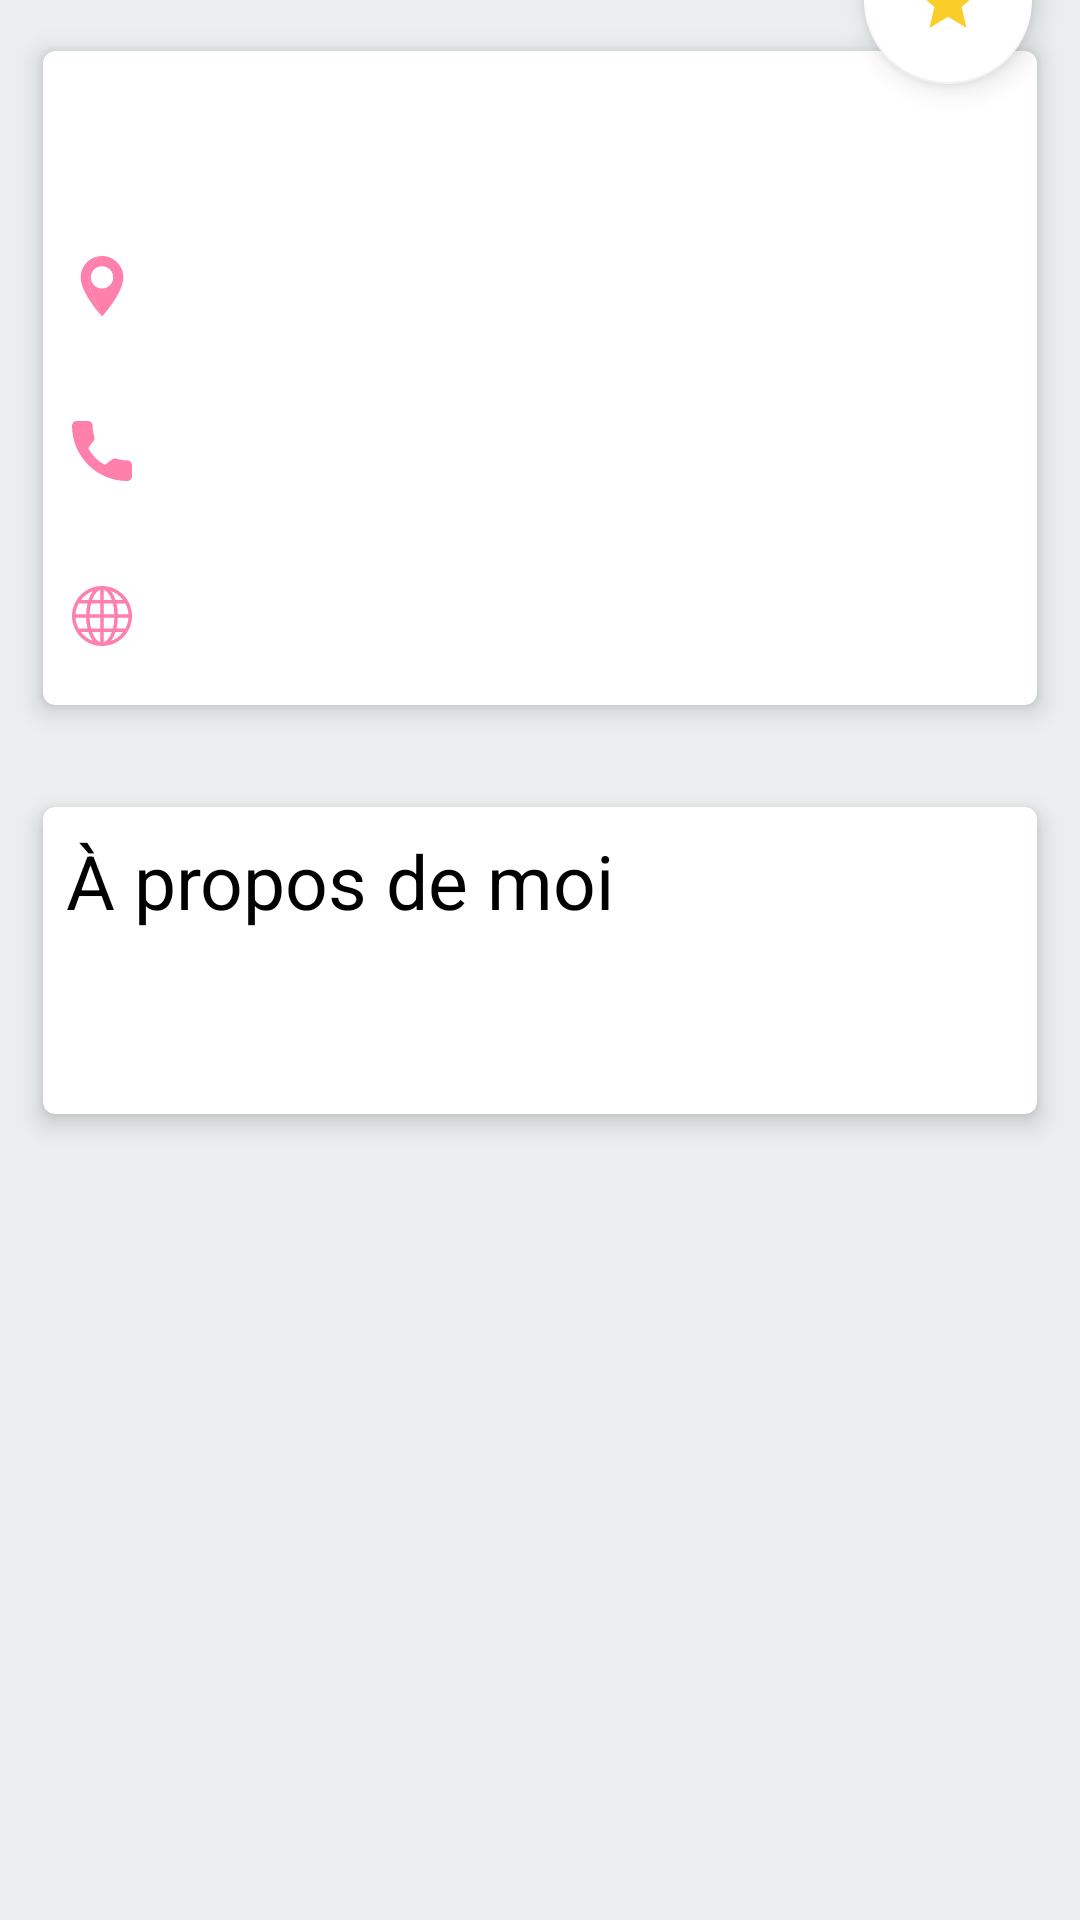

Locate icon controls on the screen. Image size 1080 x 1920, boxes as detection(x1, y1, x2, y2).
call: detection(72, 421, 132, 481)
internet: detection(72, 586, 132, 646)
